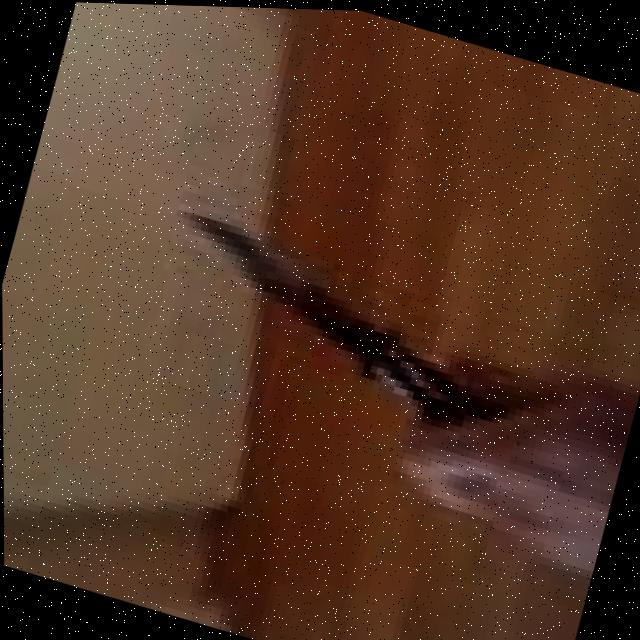knife: (141, 193, 487, 421)
